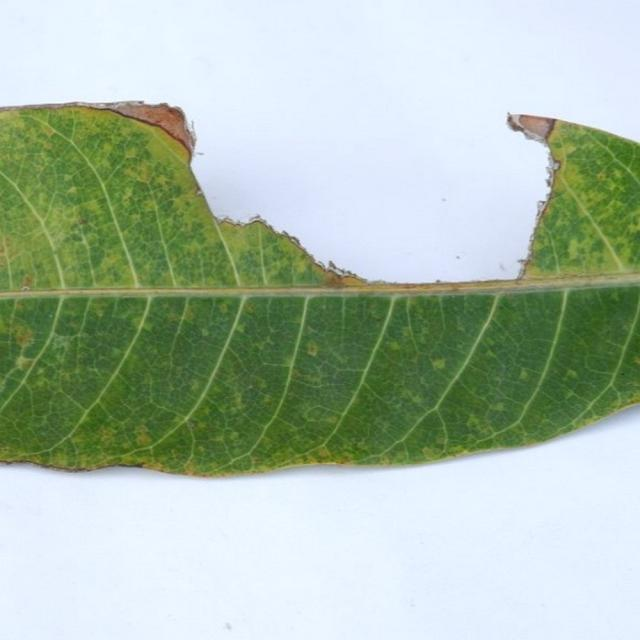Mango: (0, 103, 639, 475), (508, 115, 639, 277)
Powdery_Mildew: (68, 215, 106, 288), (280, 229, 315, 258), (44, 331, 83, 357), (300, 339, 333, 368), (50, 314, 88, 339), (304, 403, 340, 426), (428, 351, 453, 375), (238, 216, 278, 230), (0, 236, 20, 262), (625, 225, 640, 256), (12, 326, 35, 346), (566, 237, 583, 263), (185, 117, 198, 148), (336, 274, 367, 286), (123, 166, 146, 182), (133, 425, 152, 444), (506, 113, 525, 132), (15, 354, 39, 369), (217, 215, 243, 228), (323, 274, 346, 288), (515, 260, 531, 280), (557, 121, 582, 133), (514, 367, 532, 383), (97, 426, 115, 441), (325, 262, 343, 277), (544, 163, 557, 182), (133, 316, 149, 331), (467, 415, 483, 429), (408, 391, 424, 404), (400, 388, 416, 401), (124, 148, 140, 161), (545, 190, 561, 203), (423, 447, 440, 459), (232, 394, 244, 410), (306, 342, 318, 357), (122, 188, 135, 201), (189, 379, 201, 393), (183, 462, 197, 474), (21, 276, 33, 290), (283, 356, 296, 368), (218, 301, 231, 313), (317, 446, 331, 457), (612, 170, 626, 181), (332, 457, 351, 465), (401, 327, 413, 339), (610, 292, 622, 304), (248, 214, 263, 223), (388, 342, 401, 352), (128, 461, 146, 468), (527, 232, 538, 243), (369, 279, 389, 285), (235, 323, 246, 333), (228, 429, 239, 439), (289, 236, 300, 246), (550, 160, 561, 170), (281, 230, 292, 240), (493, 402, 505, 411), (379, 456, 391, 465), (328, 260, 338, 270), (566, 369, 577, 378), (357, 442, 368, 451), (635, 230, 640, 249), (77, 216, 87, 225), (67, 186, 78, 194), (201, 328, 210, 337), (188, 421, 197, 430), (316, 261, 325, 270), (597, 172, 607, 180), (545, 177, 553, 187), (537, 200, 547, 207), (499, 263, 507, 271), (64, 174, 73, 181), (194, 189, 203, 196), (225, 622, 232, 631), (516, 259, 527, 264), (191, 120, 196, 130), (95, 103, 107, 107), (194, 151, 204, 155), (636, 356, 640, 365), (622, 371, 628, 376), (456, 255, 461, 260), (435, 279, 441, 283), (441, 198, 446, 202)
